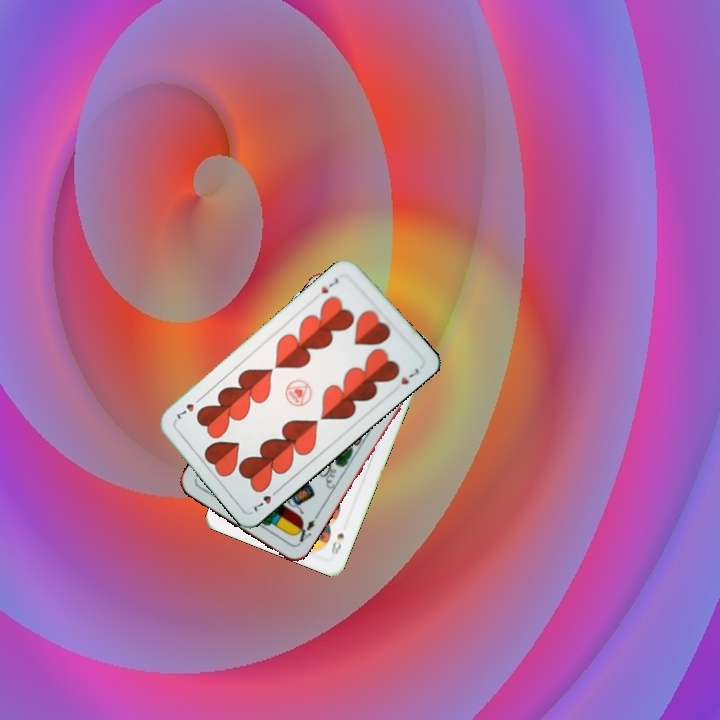EA: (291, 511, 321, 548)
H7: (249, 484, 282, 514), (316, 274, 341, 296)
S8: (327, 529, 347, 558)
